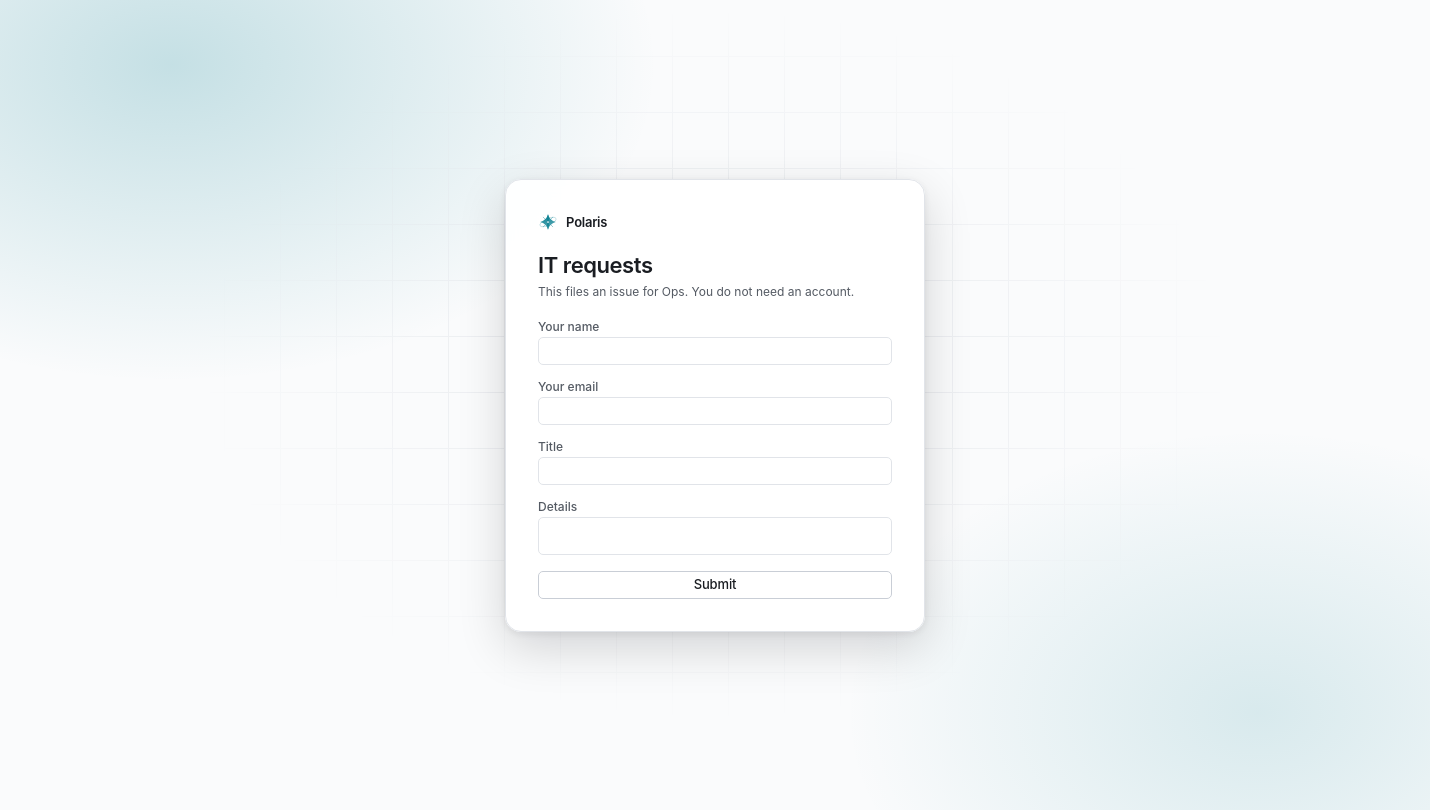
Test case: AskFormPage › shows a refused submission and leaves the form usable
Expected: the heading "IT requests" is shown, [538,252,652,278]
Type "Ada" into the field labelled "Your name". click: (715, 351)
box: [547,338,883,364]
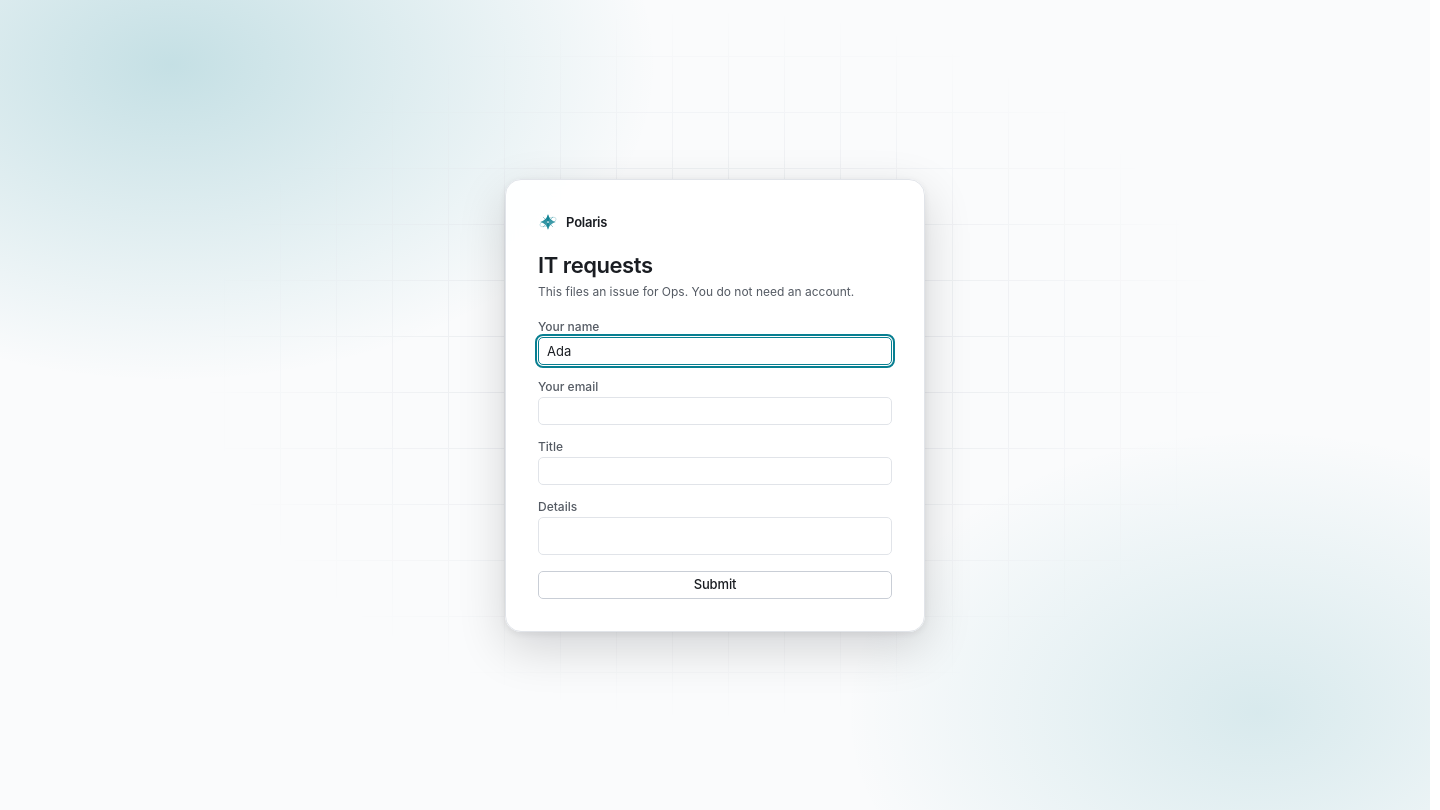
Type "ada@example.com" into the field labelled "Your email". click: (715, 411)
box: [547,398,883,424]
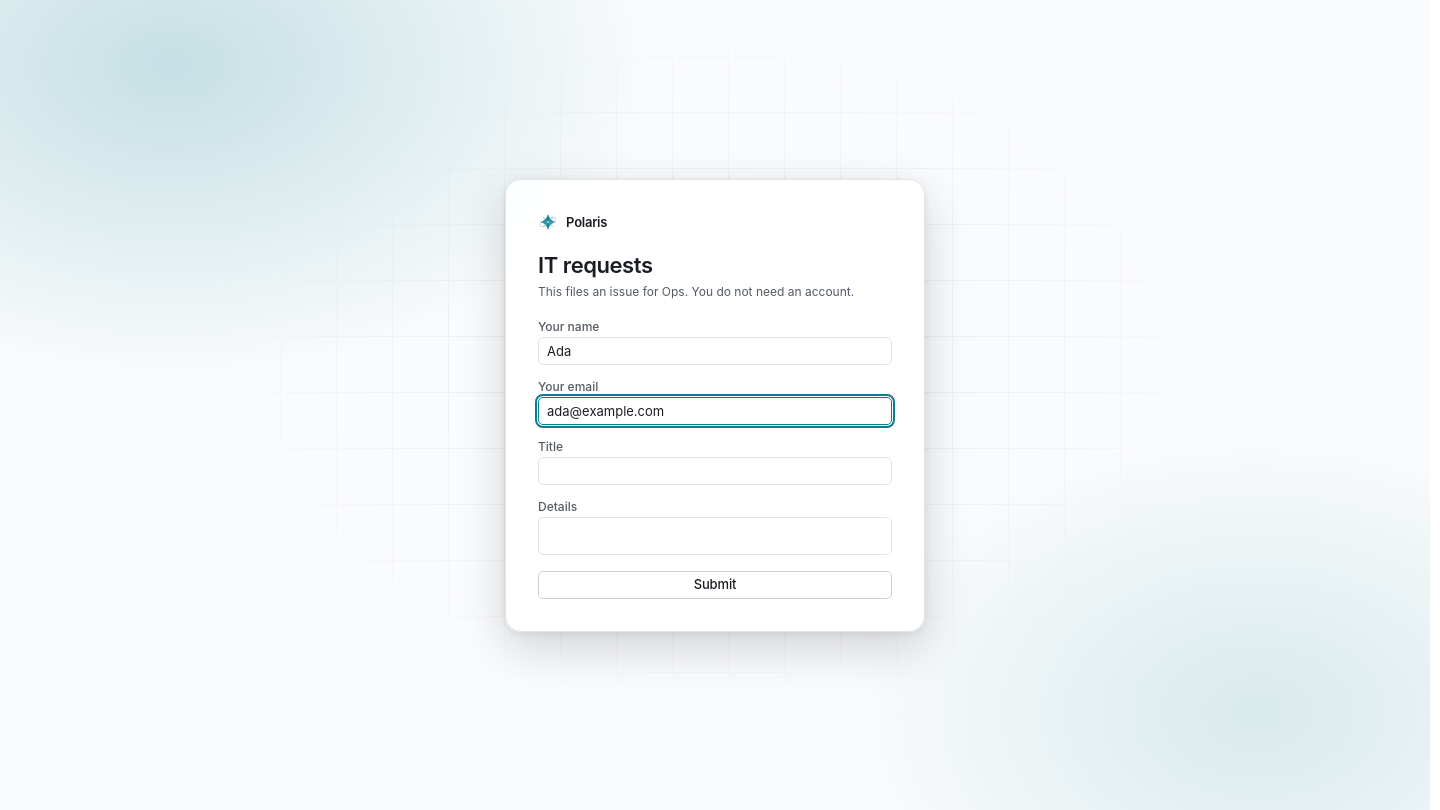
Type "x" into the field labelled "Title". click: (715, 471)
box: [547,458,883,484]
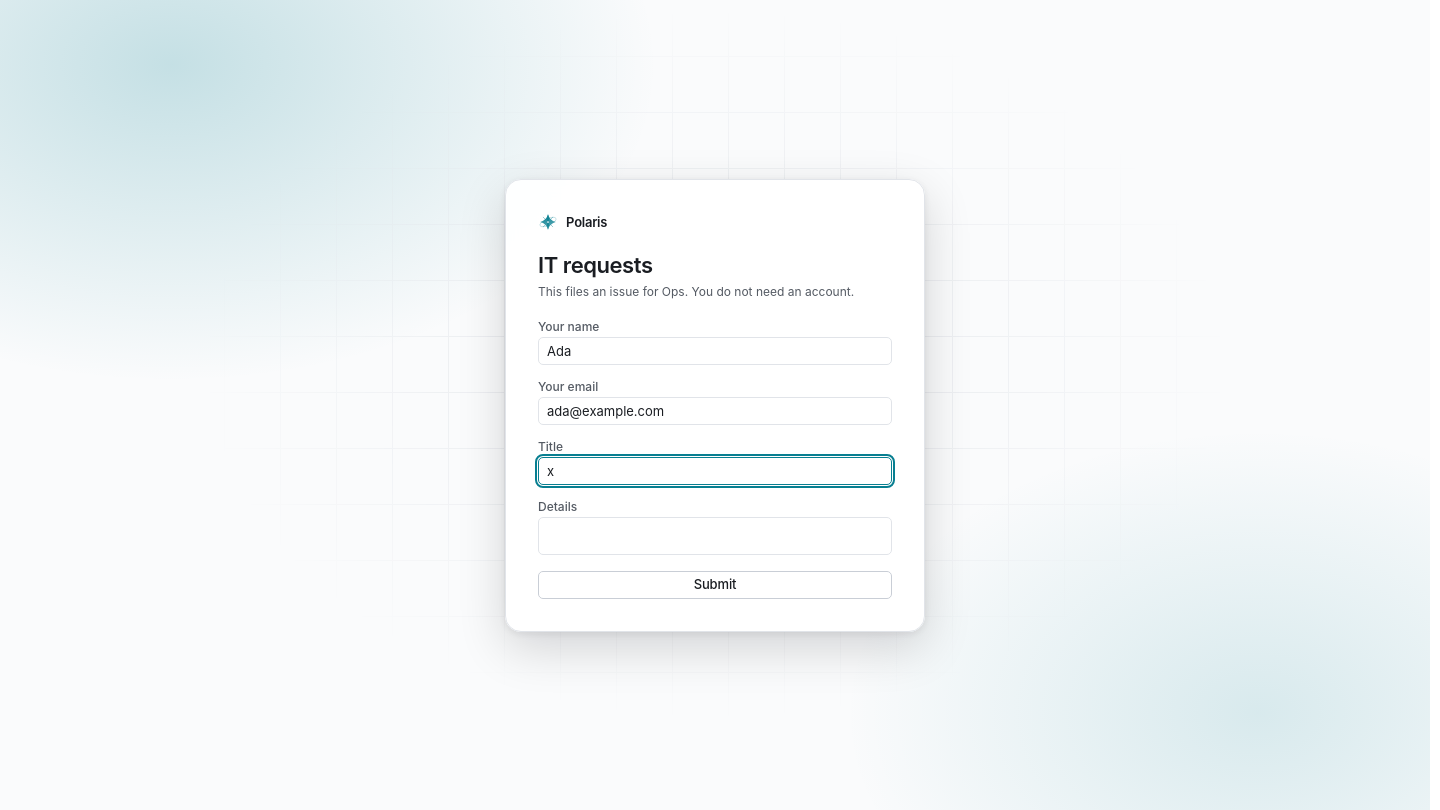
Click the button "Submit". click: (715, 584)
box: [538,570,892,598]
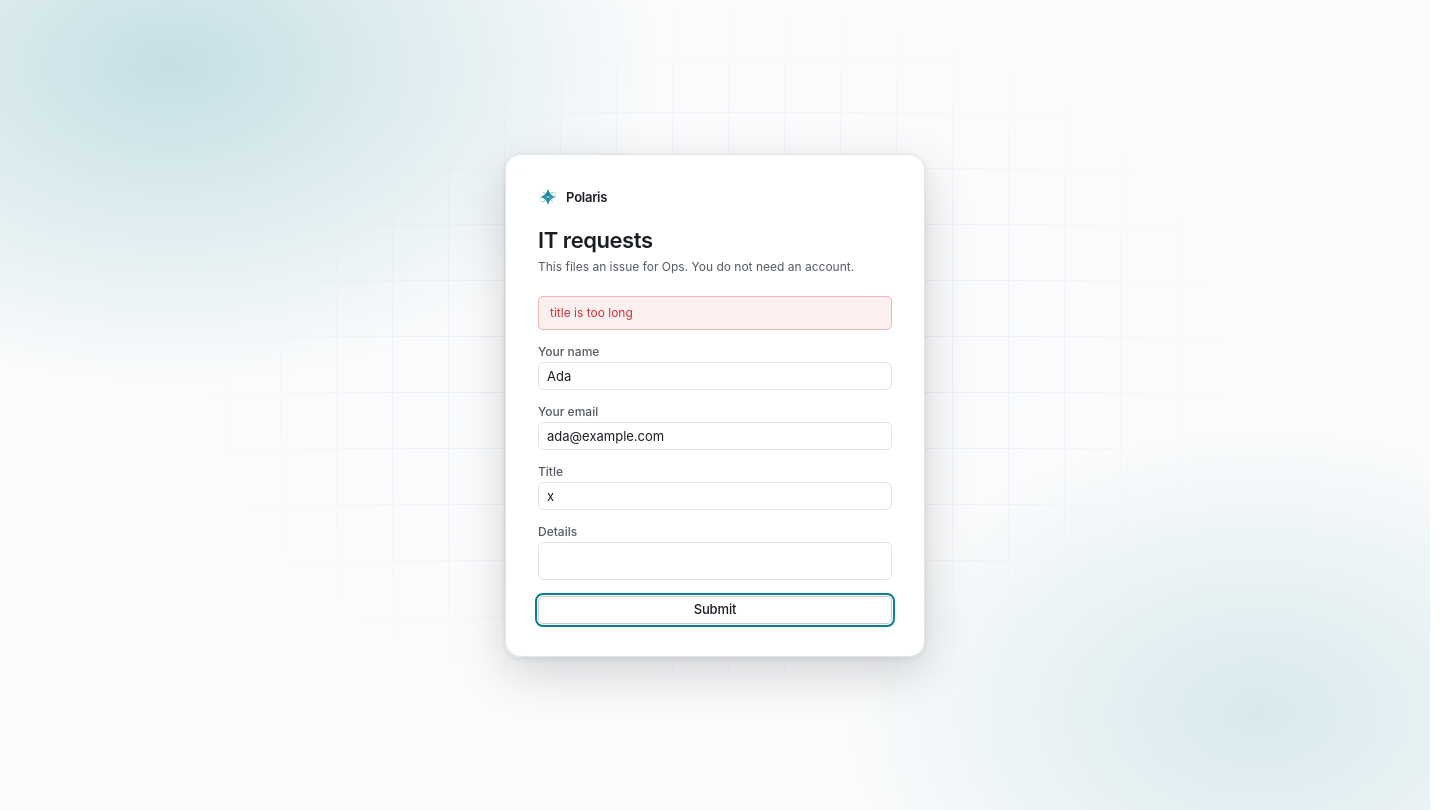
Expected: the button "Submit" is enabled, [538,596,892,624]
Result: the message reads "title is too long" at [550,305,633,320]
